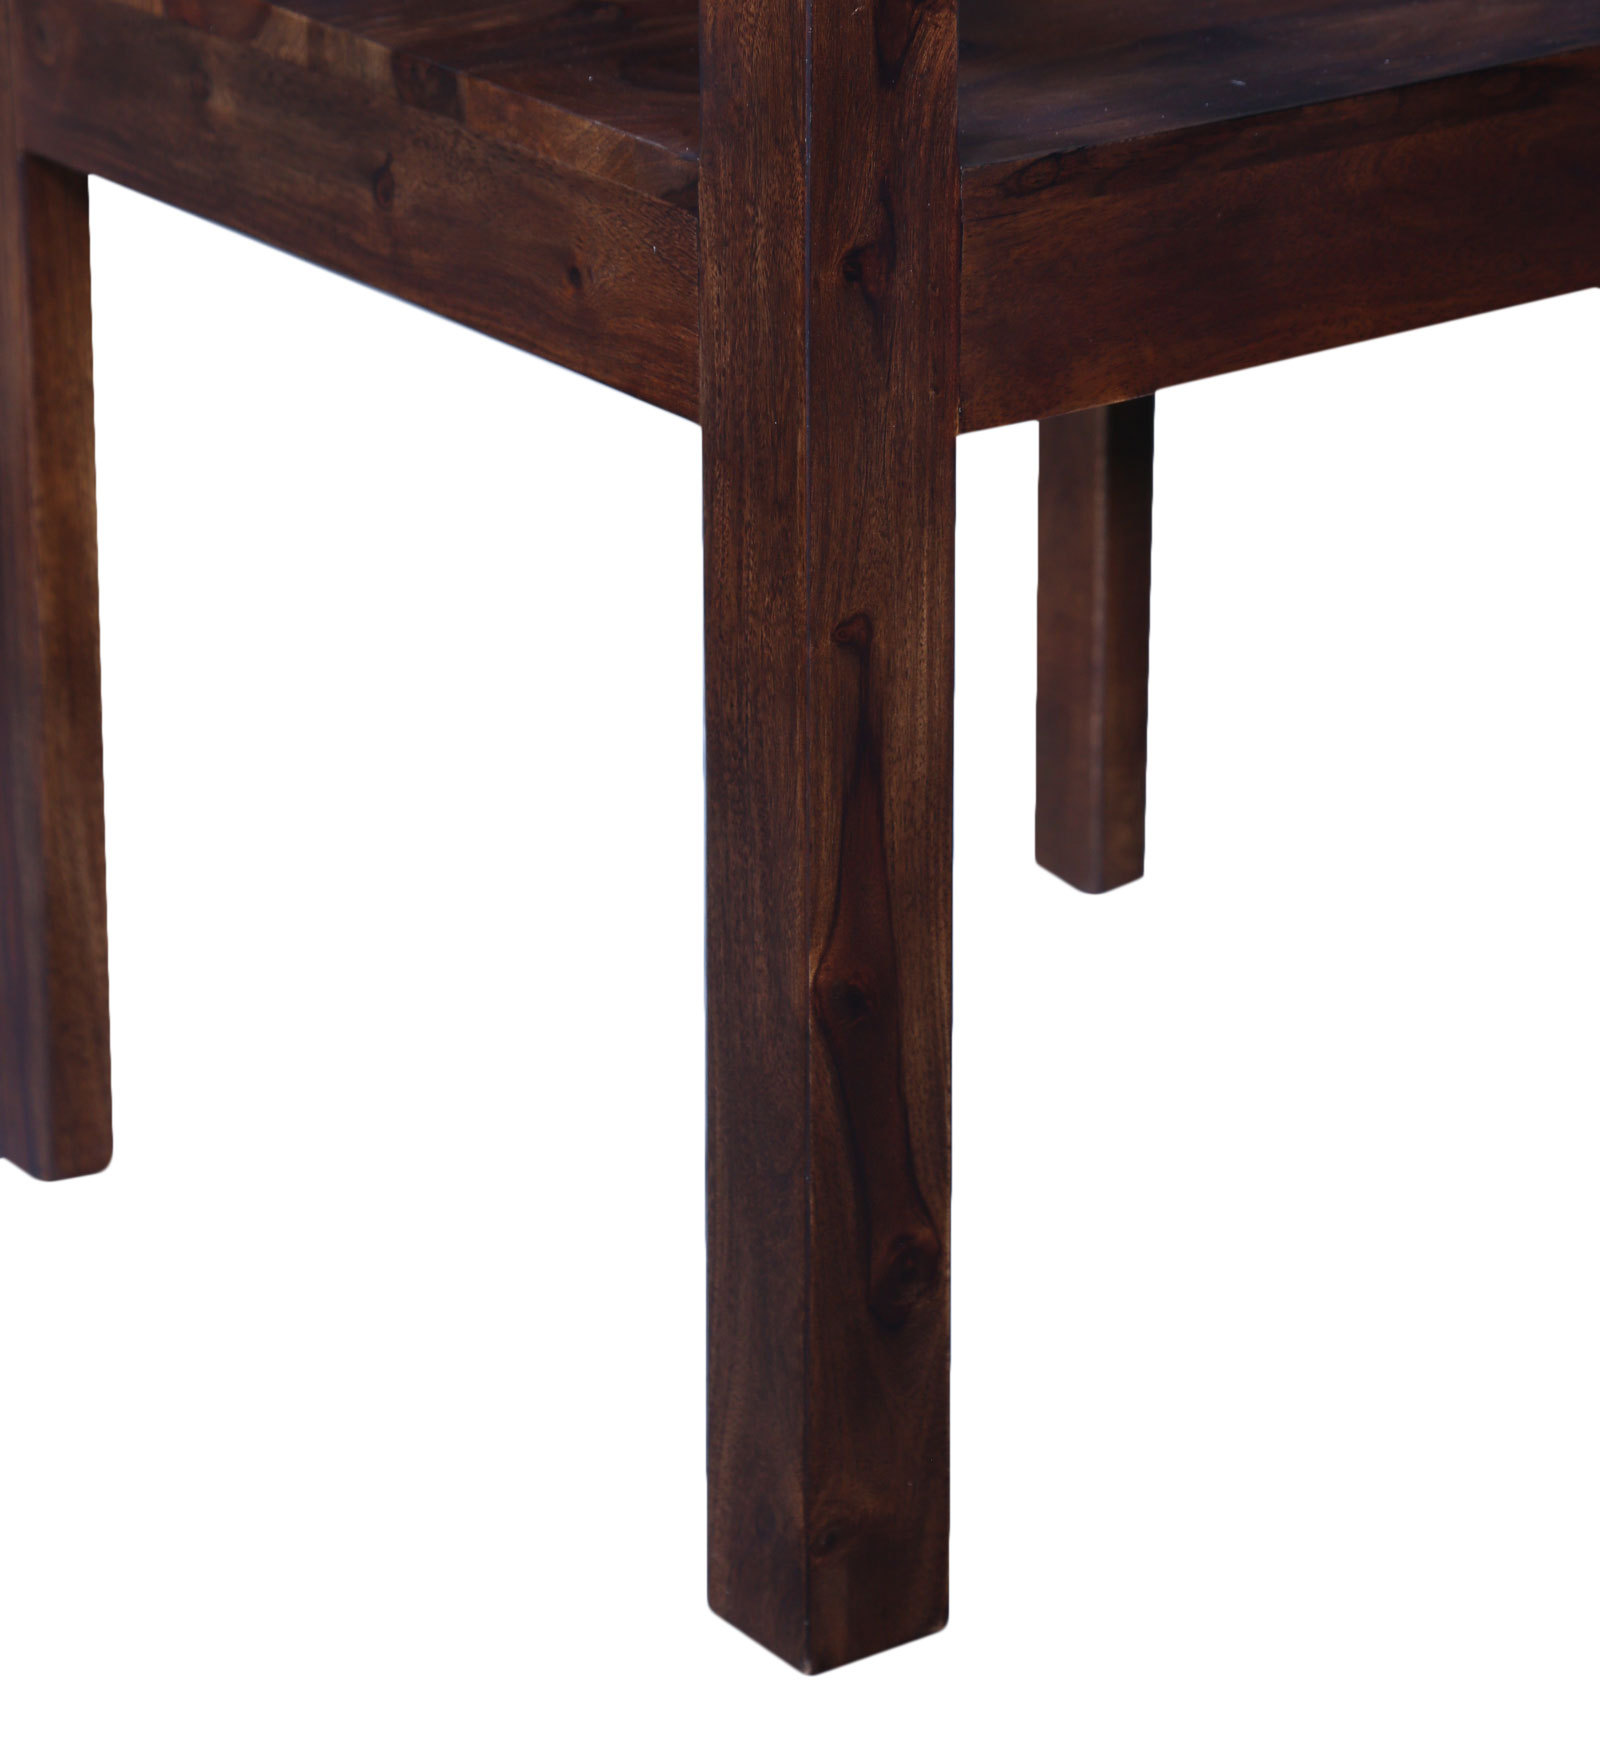Kryss Arm Chair in Provincial Teak Finish by Woodsworth: (6, 8, 1600, 1714)
